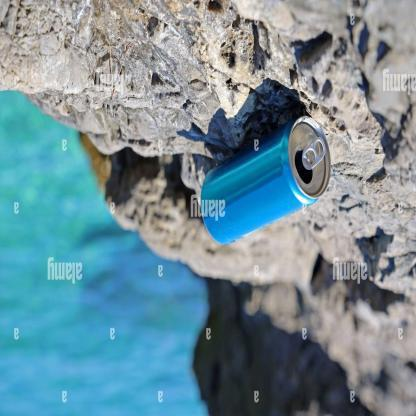Metal: (195, 111, 333, 249)
